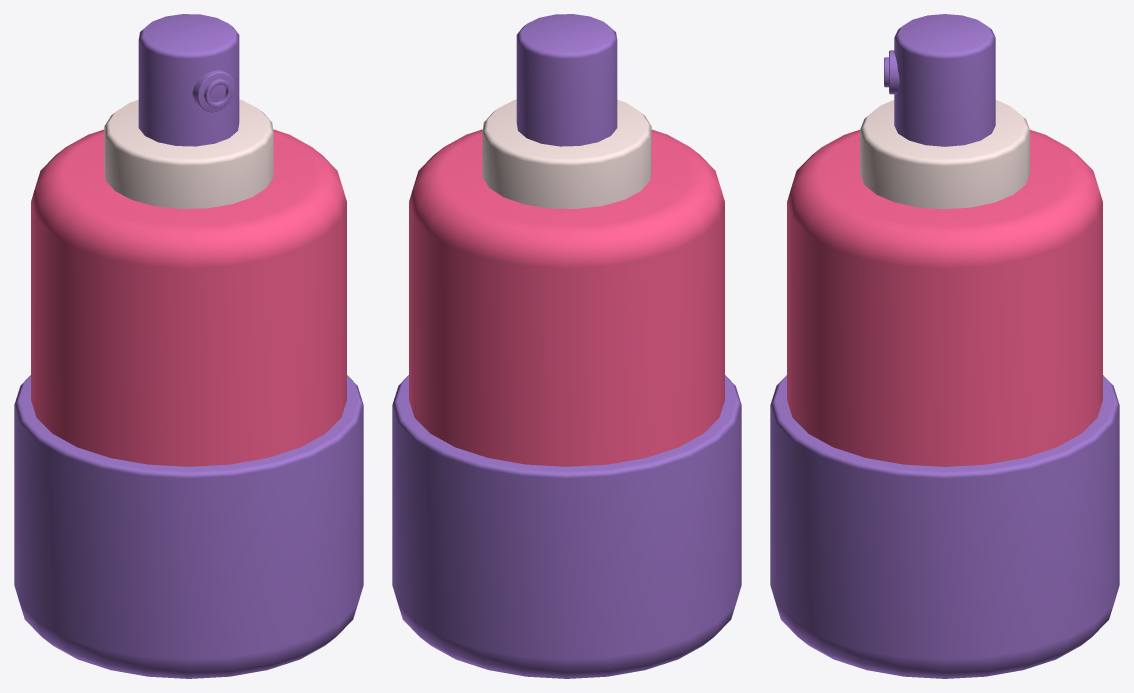
File: Store_17_Spray_1.glb
The picture shows the model from 3 angles, left to right: view 1: azimuth 30°, elevation 25°; view 2: azimuth 150°, elevation 25°; view 3: azimuth 270°, elevation 25°; orthographic projection.
Parts seen in each view (by area): view 1: Store_17_Spray_1; view 2: Store_17_Spray_1; view 3: Store_17_Spray_1.
Part boxes in pixels (bbox=[...]): Store_17_Spray_1: bbox=[14, 14, 363, 678]; Store_17_Spray_1: bbox=[392, 14, 741, 678]; Store_17_Spray_1: bbox=[770, 14, 1119, 678].
Bounding box in the file's own units: 0.6975 × 1.29 × 0.6975.
1 material, 1 textured.
